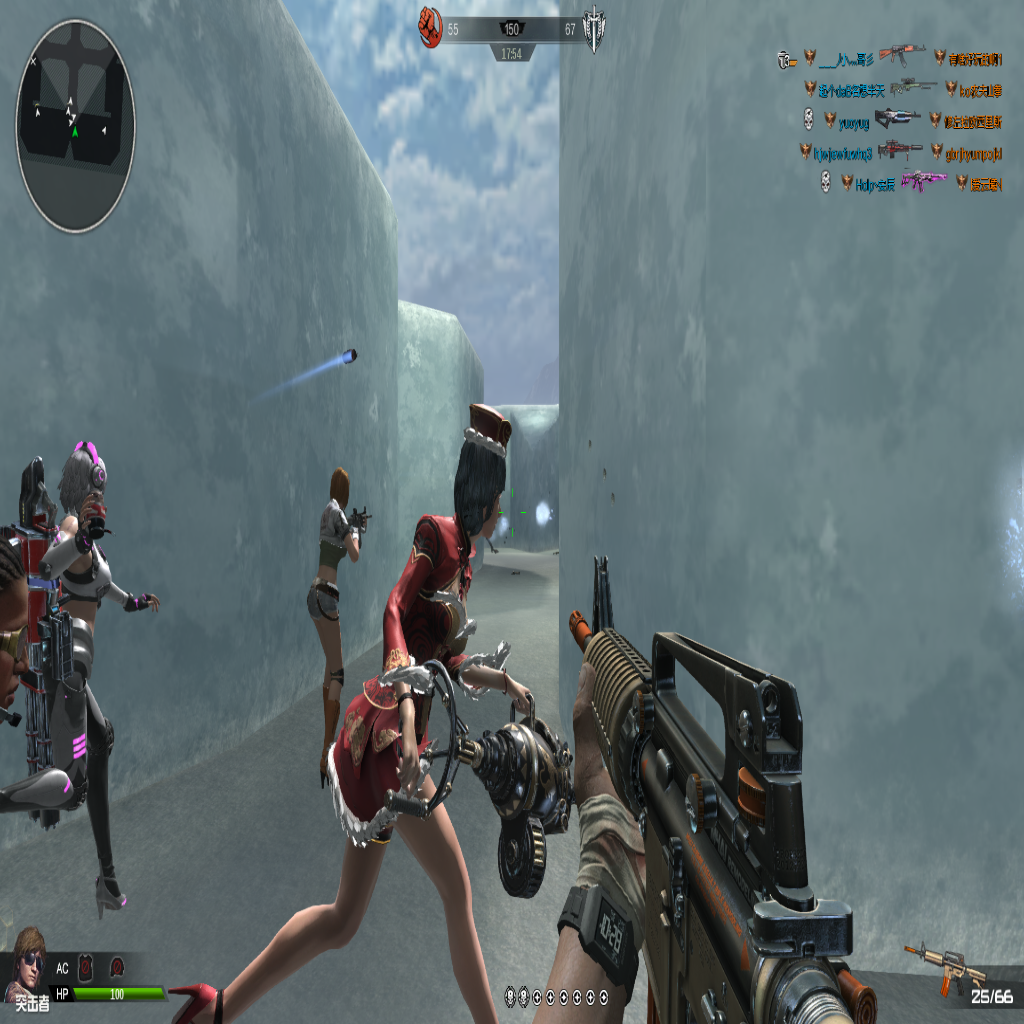tt: (342, 421, 535, 878), (43, 438, 119, 837), (306, 466, 363, 770)
